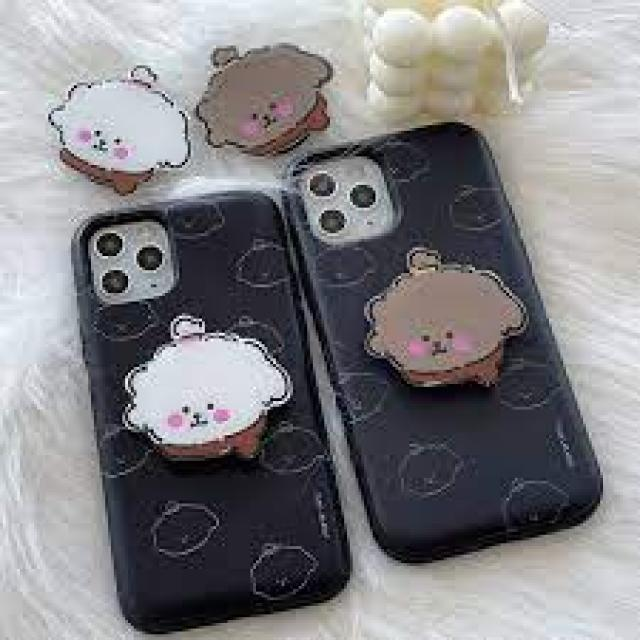Phone: (278, 119, 606, 571), (68, 186, 360, 639)
